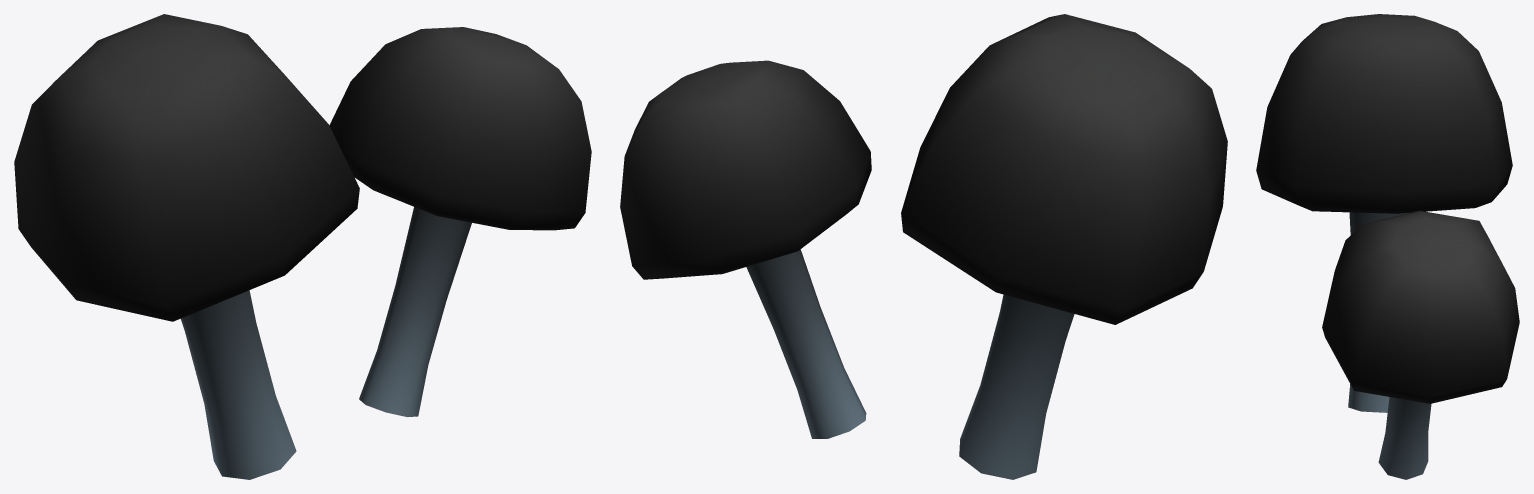
The model's file is SM_Mushrooms.fbx.
3 views of the same model, side by side, from view 1: azimuth 30°, elevation 25°; view 2: azimuth 150°, elevation 25°; view 3: azimuth 270°, elevation 25° (orthographic). The views are drawn at different scales.
Visible parts, largest first — view 1: pPlane5; view 2: pPlane5; view 3: pPlane5.
Part boxes in pixels (left/top/right/bottom): pPlane5: left=14, top=14, right=591, bottom=479; pPlane5: left=620, top=14, right=1227, bottom=479; pPlane5: left=1256, top=14, right=1519, bottom=479.
Bounding box in the file's own units: 42.8 × 34.04 × 22.49.
